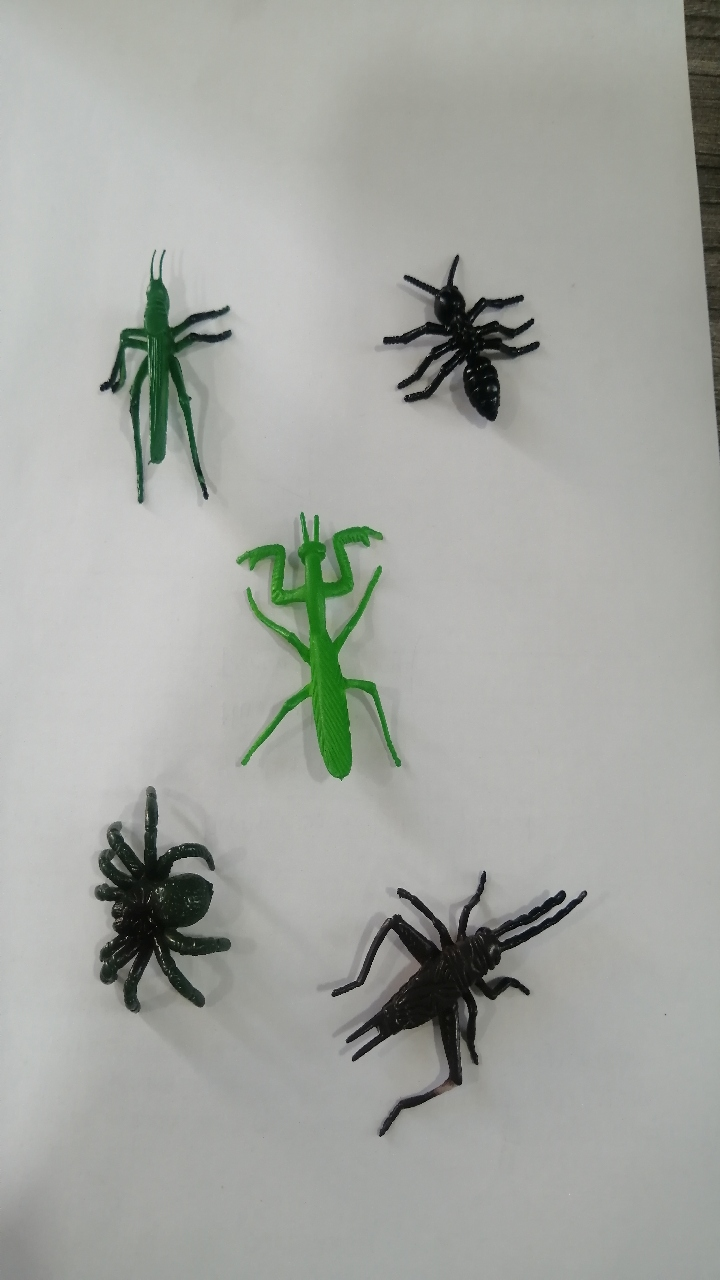intruso: (309, 840, 598, 1160), (209, 505, 443, 800), (344, 197, 561, 451), (71, 760, 243, 1055), (75, 228, 232, 522)
